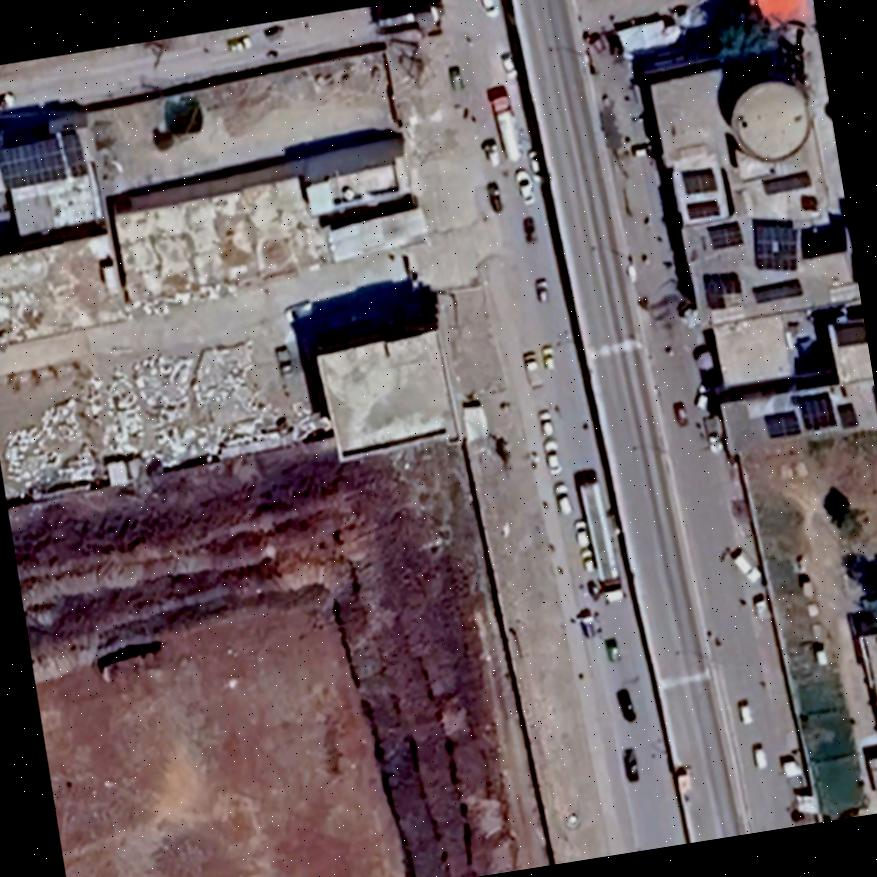Solarpanel: (754, 383, 862, 442), (0, 121, 91, 189), (745, 211, 801, 275), (756, 164, 814, 198), (671, 159, 722, 197), (754, 274, 809, 308), (700, 217, 746, 251), (679, 196, 726, 225), (792, 191, 821, 214)
